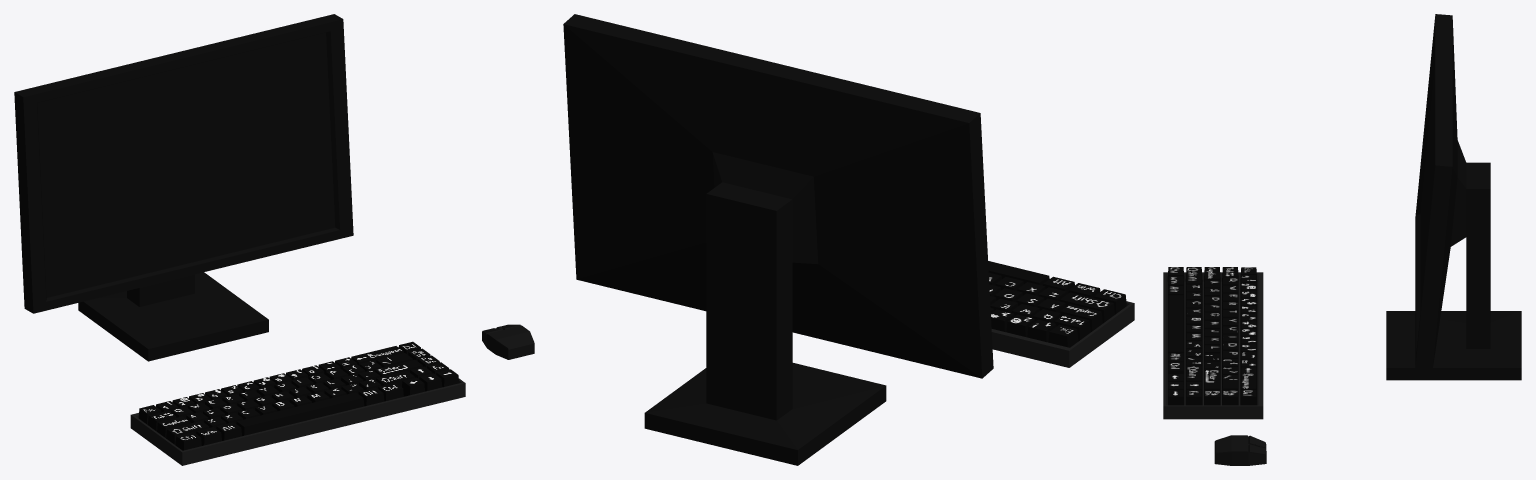
File: Computer.glb
The picture shows the model from 3 angles, left to right: view 1: azimuth 30°, elevation 25°; view 2: azimuth 150°, elevation 25°; view 3: azimuth 270°, elevation 25°; orthographic projection. The views are drawn at different scales.
Visible parts, largest first — view 1: Cube.001, Cube.009, Cube.002, Cube.003; view 2: Cube.001, Cube.009, Cube.002; view 3: Cube.001, Cube.009, Cube.002, Cube.003.
Part boxes in pixels (x1=…): Cube.001: x1=14, y1=14, x2=353, y2=361; Cube.009: x1=138, y1=341, x2=459, y2=450; Cube.002: x1=130, y1=378, x2=465, y2=465; Cube.003: x1=482, y1=324, x2=534, y2=359; Cube.001: x1=563, y1=14, x2=993, y2=465; Cube.009: x1=988, y1=261, x2=1126, y2=347; Cube.002: x1=991, y1=301, x2=1134, y2=367; Cube.001: x1=1386, y1=14, x2=1521, y2=380; Cube.009: x1=1167, y1=267, x2=1257, y2=405; Cube.002: x1=1163, y1=272, x2=1263, y2=419; Cube.003: x1=1214, y1=435, x2=1266, y2=465.
Size of the model in its own units: 3.34 by 2.15 by 2.66.
4 materials, 1 textured.
